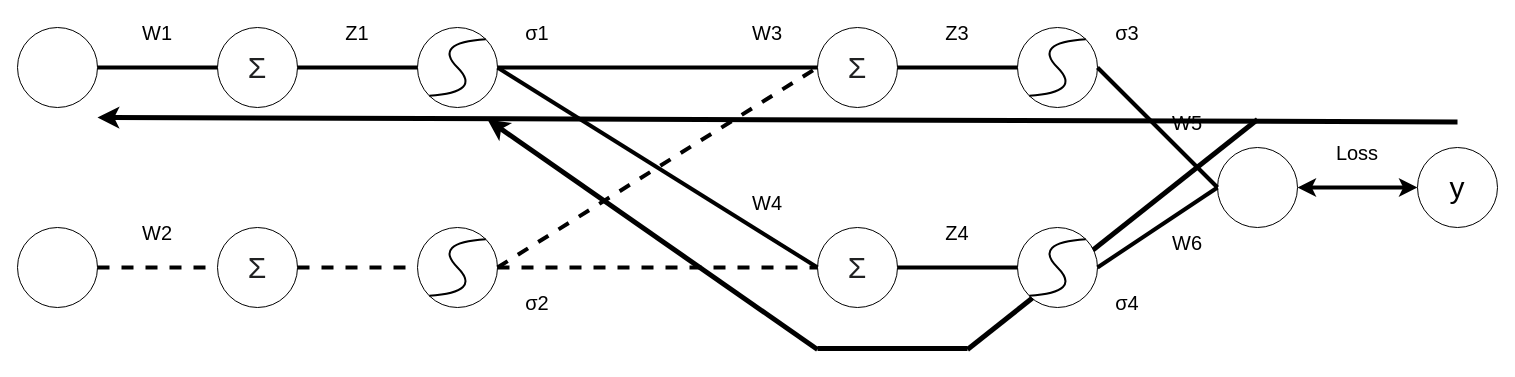
Some shapes in this 1515 by 377 pixel diagram are drawn without their labels. Each missing label, with the centre of its shape:
X1: (57,67)
X2: (57,267)
ŷ: (1257,187)
